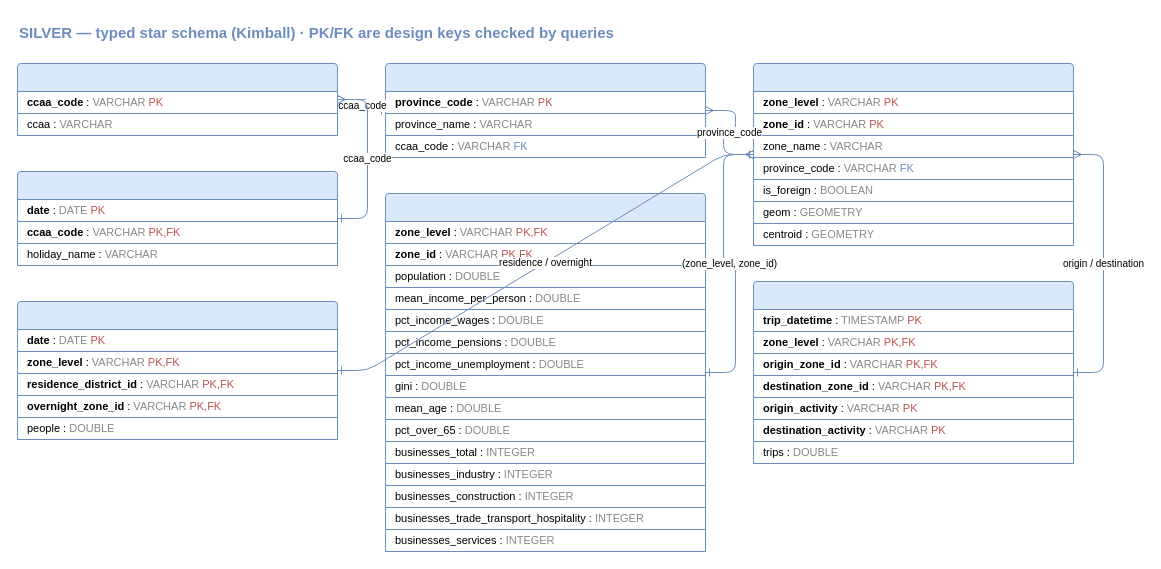
The diagram is 1161 pixels wide and 569 high, and some of its shapes have lost their labels. Each missing label, with the box of its shape:
silver_dim_ccaa: (16, 62, 338, 136)
silver_dim_province: (384, 62, 706, 158)
silver_dim_zone: (752, 62, 1074, 246)
silver_fact_overnight: (16, 300, 338, 440)
silver_fact_trips: (752, 280, 1074, 464)
silver_holidays: (16, 170, 338, 266)
silver_zone_metrics: (384, 192, 706, 552)
